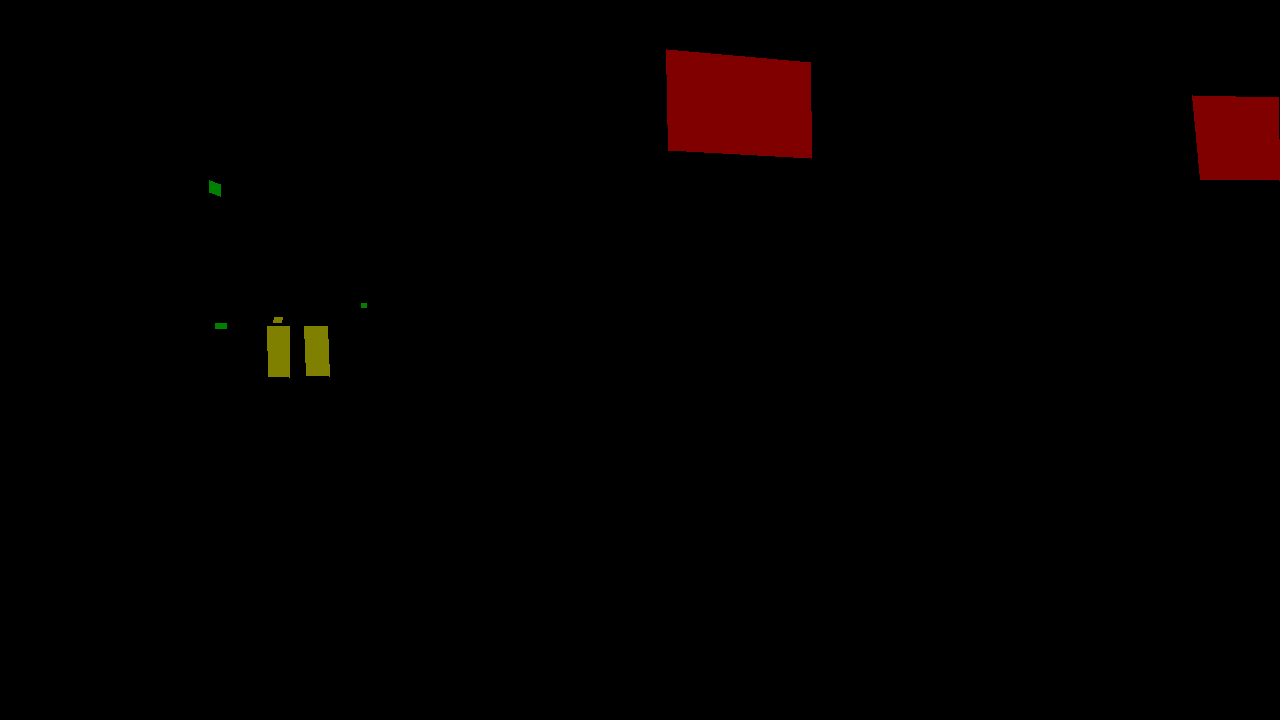door: (304, 326, 329, 376), (267, 326, 289, 377)
sign: (209, 180, 220, 196), (215, 323, 226, 328), (273, 317, 282, 322), (361, 303, 366, 307)
tvmonitor: (666, 49, 811, 158), (1192, 95, 1279, 180)
